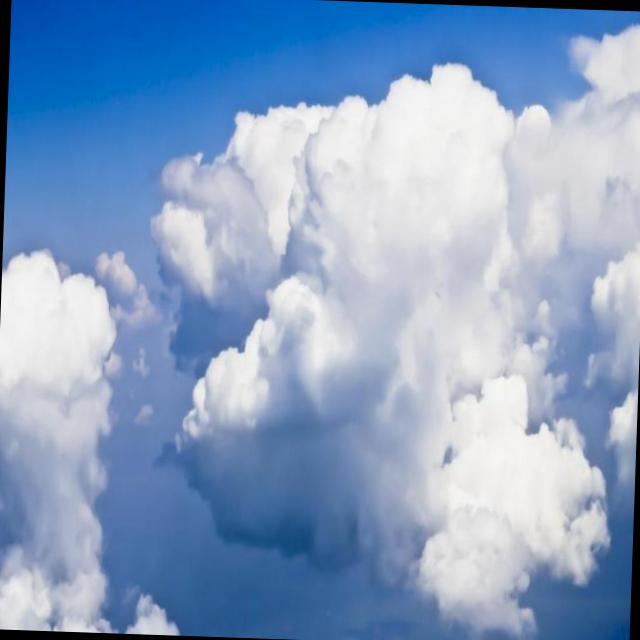cumulus: (158, 56, 640, 579)
